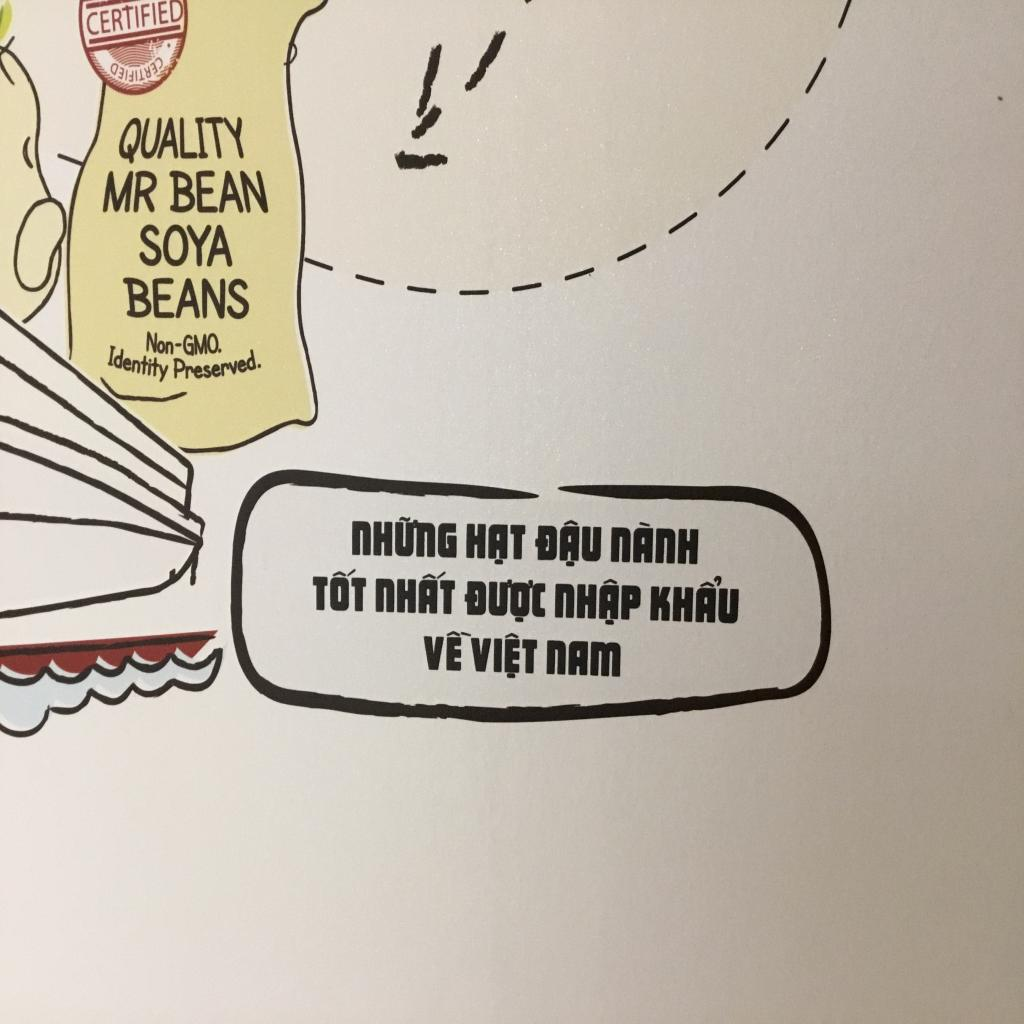text: (111, 113, 253, 166), (119, 273, 252, 323), (350, 508, 458, 564), (168, 167, 272, 216), (138, 220, 238, 270), (649, 574, 742, 627), (553, 576, 642, 628), (610, 518, 700, 568), (171, 343, 267, 389), (463, 576, 548, 626), (374, 569, 457, 618), (87, 0, 185, 38), (534, 518, 604, 570), (469, 631, 541, 681), (106, 342, 172, 389), (463, 520, 527, 568), (311, 565, 369, 615), (102, 167, 162, 214), (142, 328, 224, 360), (420, 630, 474, 678), (106, 52, 168, 86)
